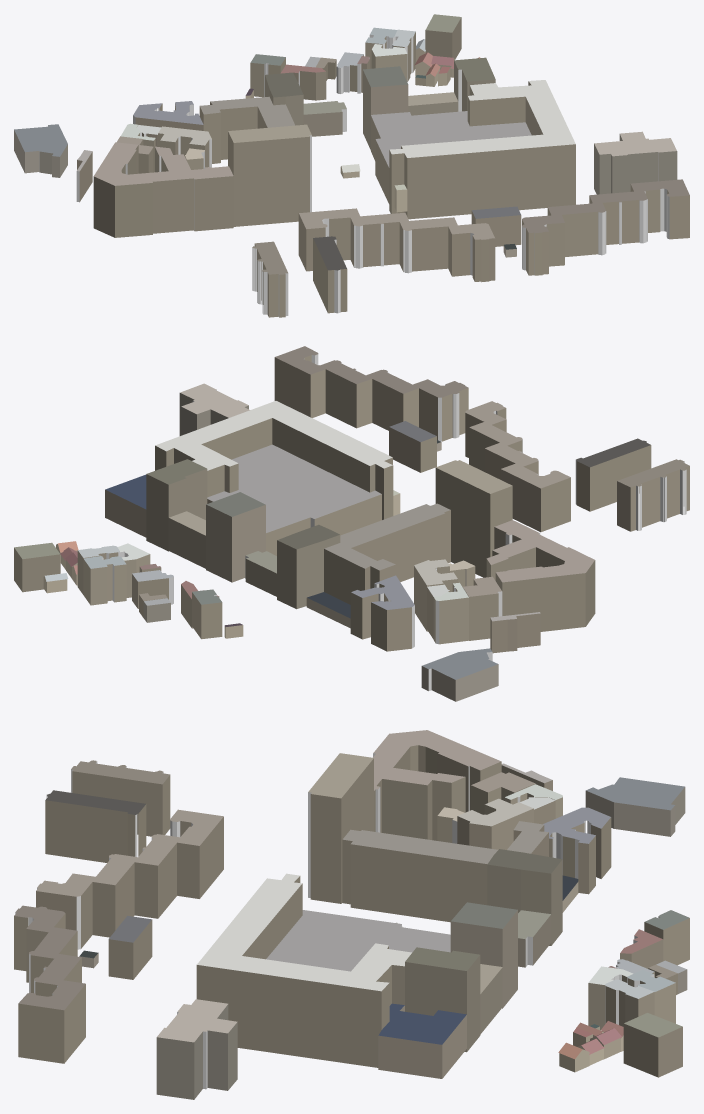
3 views of the same model, one above another, from view 1: azimuth 30°, elevation 25°; view 2: azimuth 150°, elevation 25°; view 3: azimuth 270°, elevation 25° (orthographic). The views are drawn at different scales.
Parts seen in each view (by area): view 1: tuile; view 2: tuile; view 3: tuile.
Boxes of the visible parts, <box> form: tuile: <box>14,14,689,317</box>; tuile: <box>14,346,689,701</box>; tuile: <box>14,730,689,1099</box>.
Bounding box in the file's own units: 281 × 50.44 × 270.
